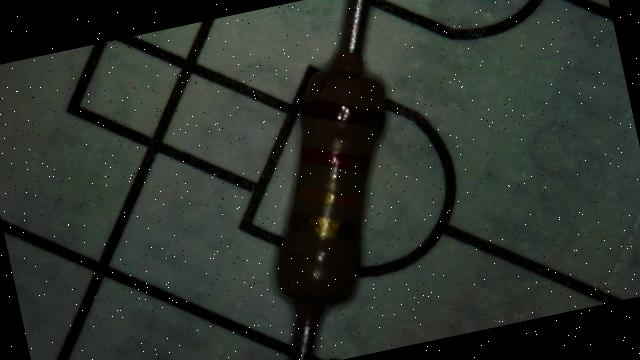brown: (300, 86, 388, 142)
gold: (286, 200, 364, 253)
red: (299, 134, 373, 183)
resistor: (269, 35, 409, 327)
yellow: (293, 174, 364, 220)
